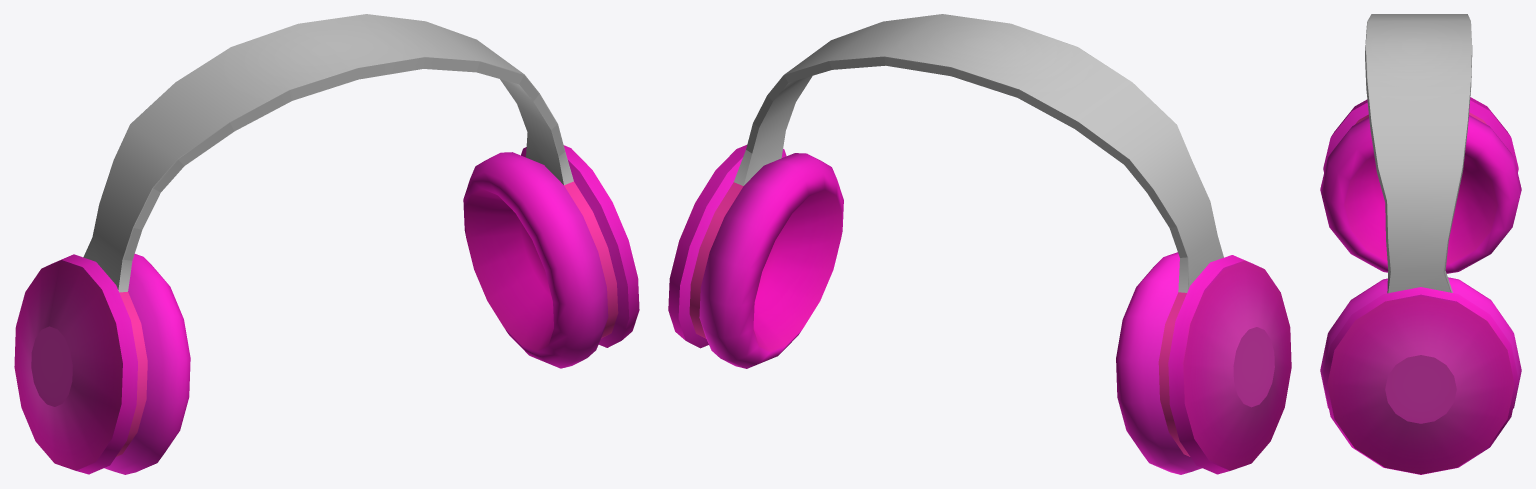
File: headPhone.fbx
3 renders of one model, left to right at view 1: azimuth 30°, elevation 25°; view 2: azimuth 150°, elevation 25°; view 3: azimuth 270°, elevation 25°, orthographic. The views are drawn at different scales.
Visible parts, largest first — view 1: head_phone_mesh; view 2: head_phone_mesh; view 3: head_phone_mesh.
Part boxes in pixels (x1=…): head_phone_mesh: x1=14, y1=14, x2=639, y2=474; head_phone_mesh: x1=668, y1=14, x2=1291, y2=474; head_phone_mesh: x1=1320, y1=14, x2=1521, y2=474.
Bounding box in the file's own units: 3.94 × 2.47 × 1.39.
